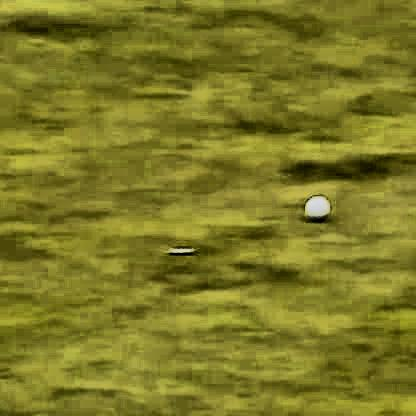golfball: (301, 191, 326, 219)
